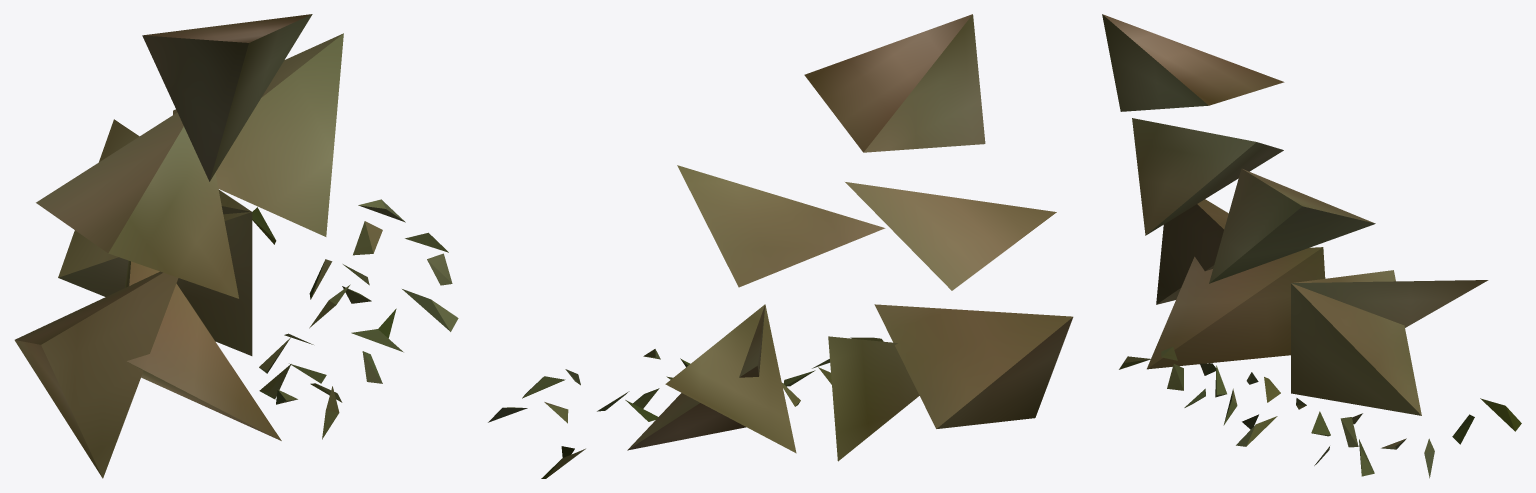
Rendered from prop_crates_game_lod2.glb.
The picture shows the model from 3 angles, left to right: view 1: azimuth 30°, elevation 25°; view 2: azimuth 150°, elevation 25°; view 3: azimuth 270°, elevation 25°; orthographic projection. The views are drawn at different scales.
Parts seen in each view (by area): view 1: geometry_0; view 2: geometry_0; view 3: geometry_0.
Boxes of the visible parts, x1,y1,x2,y2 form: geometry_0: (14,14,458,478); geometry_0: (488,14,1073,478); geometry_0: (1102,14,1521,478).
Size of the model in its own units: 2.43 by 1.89 by 2.16.
1 material, 1 textured.
